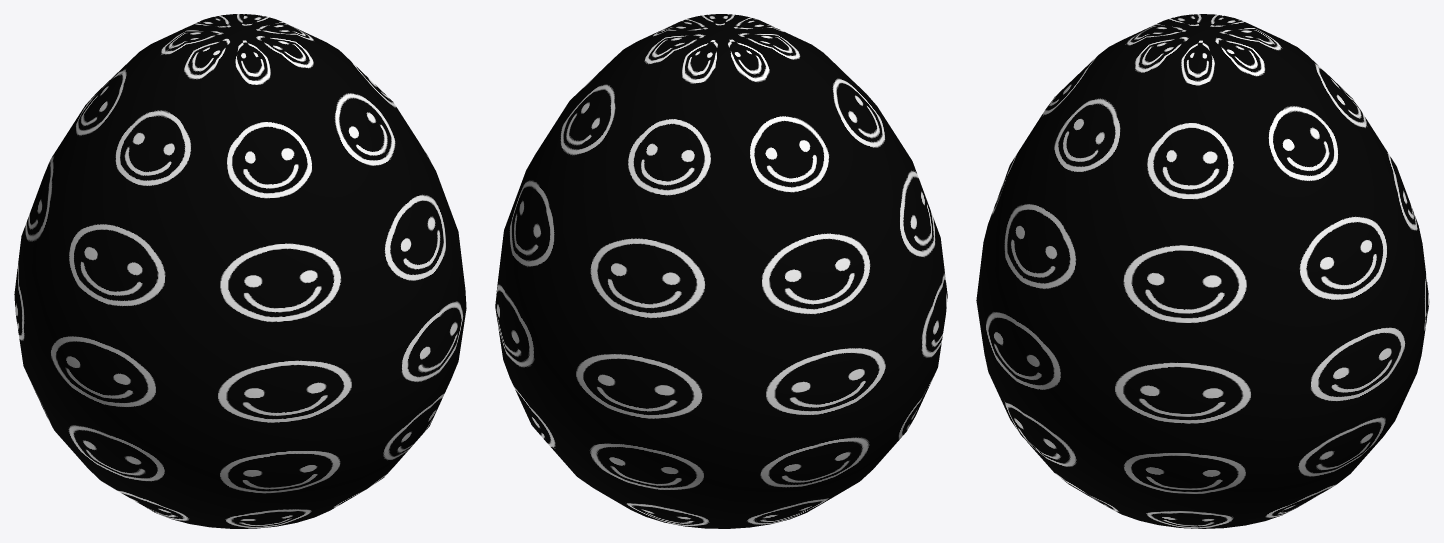
Rendered from The Smilegg.gltf.
3 renders of one model, left to right at view 1: azimuth 30°, elevation 25°; view 2: azimuth 150°, elevation 25°; view 3: azimuth 270°, elevation 25°, orthographic.
Visible parts, largest first — view 1: EGG; view 2: EGG; view 3: EGG.
Boxes of the visible parts, x1=… form: EGG: x1=14, y1=14, x2=466, y2=528; EGG: x1=495, y1=14, x2=947, y2=528; EGG: x1=976, y1=14, x2=1429, y2=528.
Size of the model in its own units: 1.77 by 2.05 by 1.77.
1 material, 1 textured.
